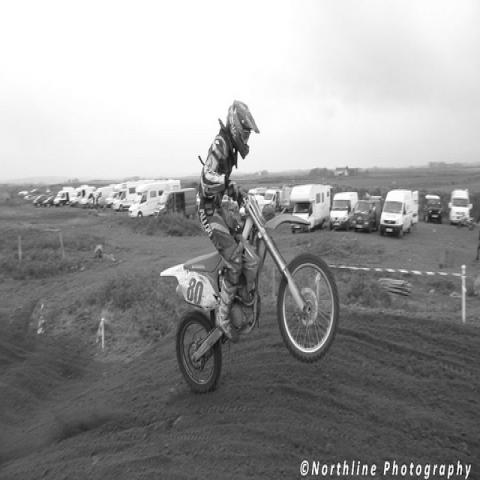car: (350, 201, 380, 231), (423, 194, 444, 223), (52, 191, 70, 207), (261, 204, 276, 223), (40, 193, 56, 209), (33, 194, 47, 208), (105, 193, 119, 207)
motorcycle: (160, 191, 341, 400)
truck: (128, 178, 181, 219), (290, 184, 332, 232), (380, 184, 420, 234), (155, 187, 197, 220), (330, 190, 361, 232), (448, 188, 472, 223), (79, 185, 109, 208), (113, 190, 137, 211), (68, 185, 88, 206), (263, 189, 282, 210), (53, 190, 70, 207)
